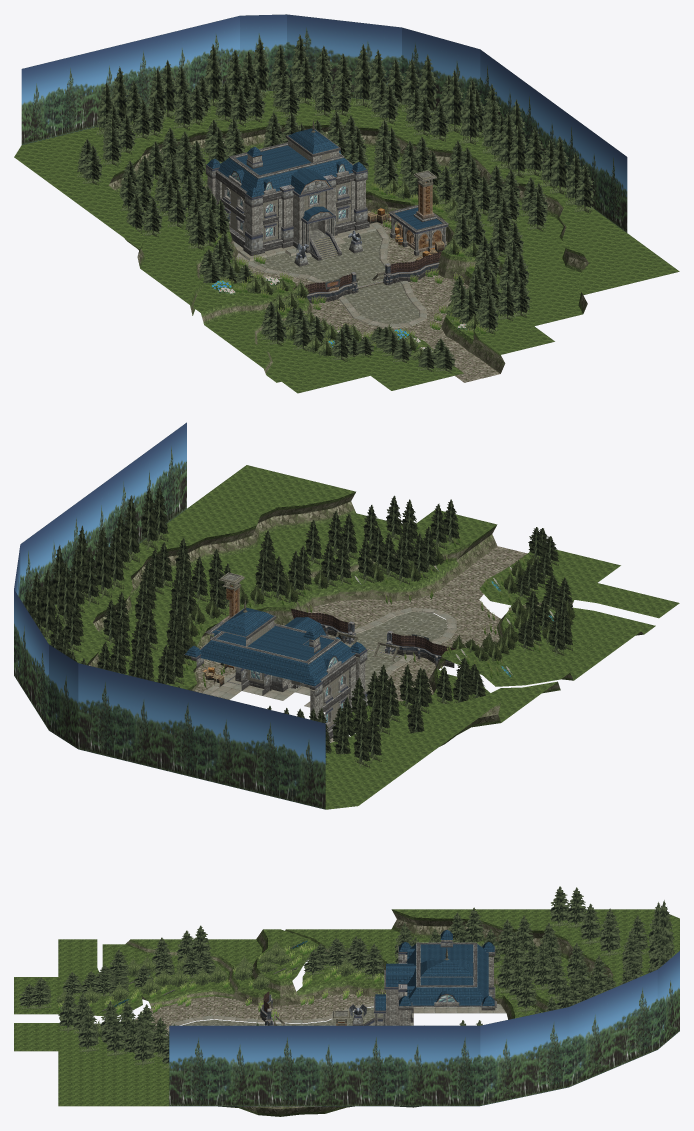
Rendered from DollStudio.obj.
3 renders of one model, top to bottom at view 1: azimuth 30°, elevation 25°; view 2: azimuth 150°, elevation 25°; view 3: azimuth 270°, elevation 25°, orthographic. The views are drawn at different scales.
Parts seen in each view (by area): view 1: Object.114, Object.108, Object.105, Object.88, Object.113, Object.110, Object.109, Object.68, Object.65, Object.89, Object.54, Object.28 (+99 smaller); view 2: Object.92, Object.65, Object.77, Object.75, Object.64, Object.78, Object.66, Object.76, Object.67, Object.88, Object.28, Object.30 (+82 smaller); view 3: Object.83, Object.73, Object.74, Object.84, Object.71, Object.72, Object.105, Object.63, Object.82, Object.68, Object.79, Object.80 (+65 smaller).
Boxes of the visible parts, x1,y1,x2,y2 form: Object.114: (155, 63, 246, 129); Object.108: (314, 61, 418, 145); Object.105: (102, 131, 207, 205); Object.88: (455, 165, 542, 236); Object.113: (207, 54, 300, 124); Object.110: (96, 84, 178, 165); Object.109: (373, 88, 449, 179); Object.68: (287, 14, 373, 79); Object.65: (131, 24, 203, 109); Object.89: (401, 140, 499, 204); Object.54: (14, 132, 117, 180); Object.28: (525, 234, 622, 301); Object.92: (305, 505, 414, 587); Object.65: (119, 673, 201, 773); Object.77: (181, 694, 263, 794); Object.75: (49, 654, 119, 759); Object.64: (49, 644, 119, 752); Object.78: (264, 714, 325, 809); Object.66: (202, 693, 263, 788); Object.76: (119, 679, 181, 774); Object.67: (264, 708, 325, 803); Object.88: (139, 538, 231, 620); Object.28: (217, 492, 342, 563); Object.30: (449, 655, 569, 705); Object.83: (347, 1026, 435, 1106); Object.73: (258, 1025, 346, 1105); Object.74: (169, 1026, 258, 1106); Object.84: (258, 1026, 346, 1106); Object.71: (435, 1016, 524, 1105); Object.72: (347, 1025, 435, 1105); Object.105: (508, 918, 605, 1002); Object.63: (191, 1025, 257, 1105); Object.82: (436, 1022, 502, 1106); Object.68: (591, 969, 657, 1076); Object.79: (591, 971, 657, 1077); Object.80: (502, 1008, 568, 1101).
Bounding box in the file's own units: 84 × 24 × 120.
26 materials, 26 textured.
